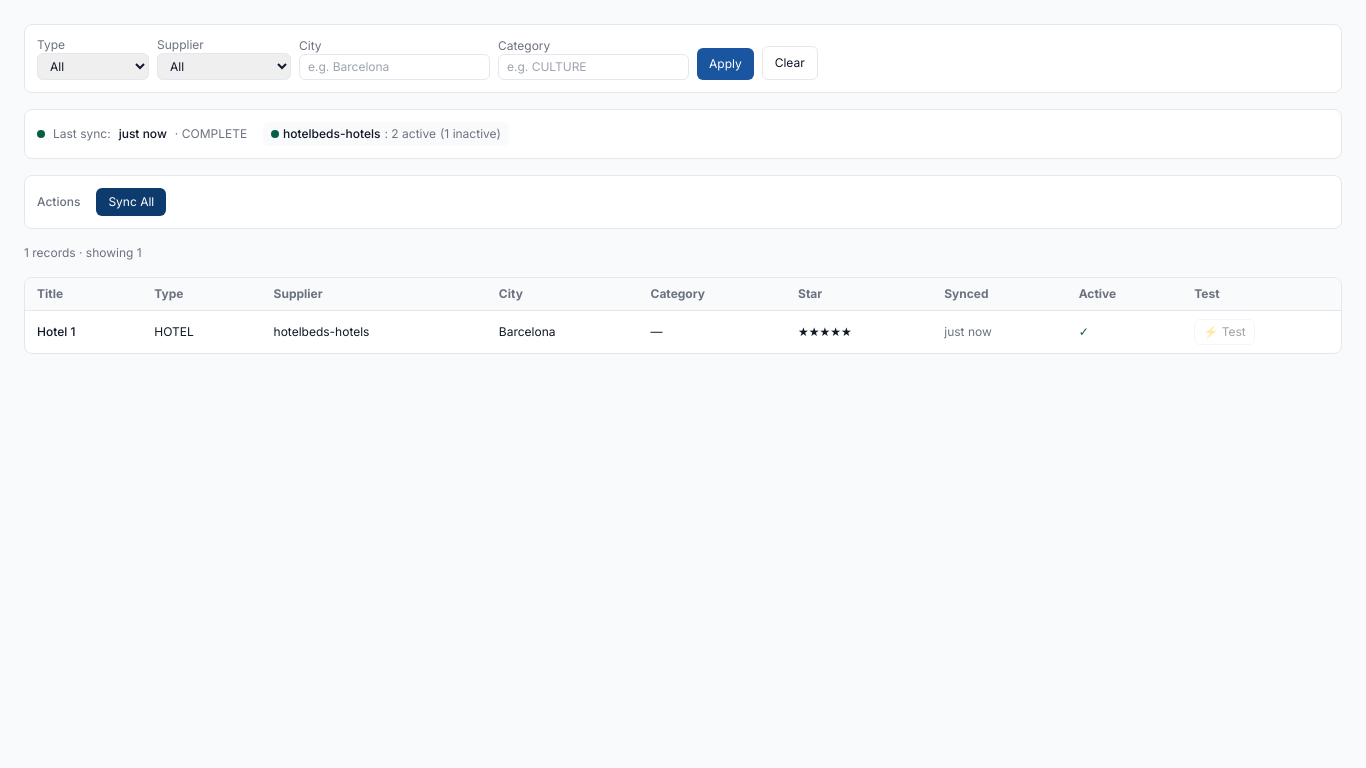
it: §7B Inventory page › row click expands raw JSON
The width and height of the screenshot is (1366, 768).
Click the text "Hotel 1" at (56, 332), box [25, 310, 142, 353]
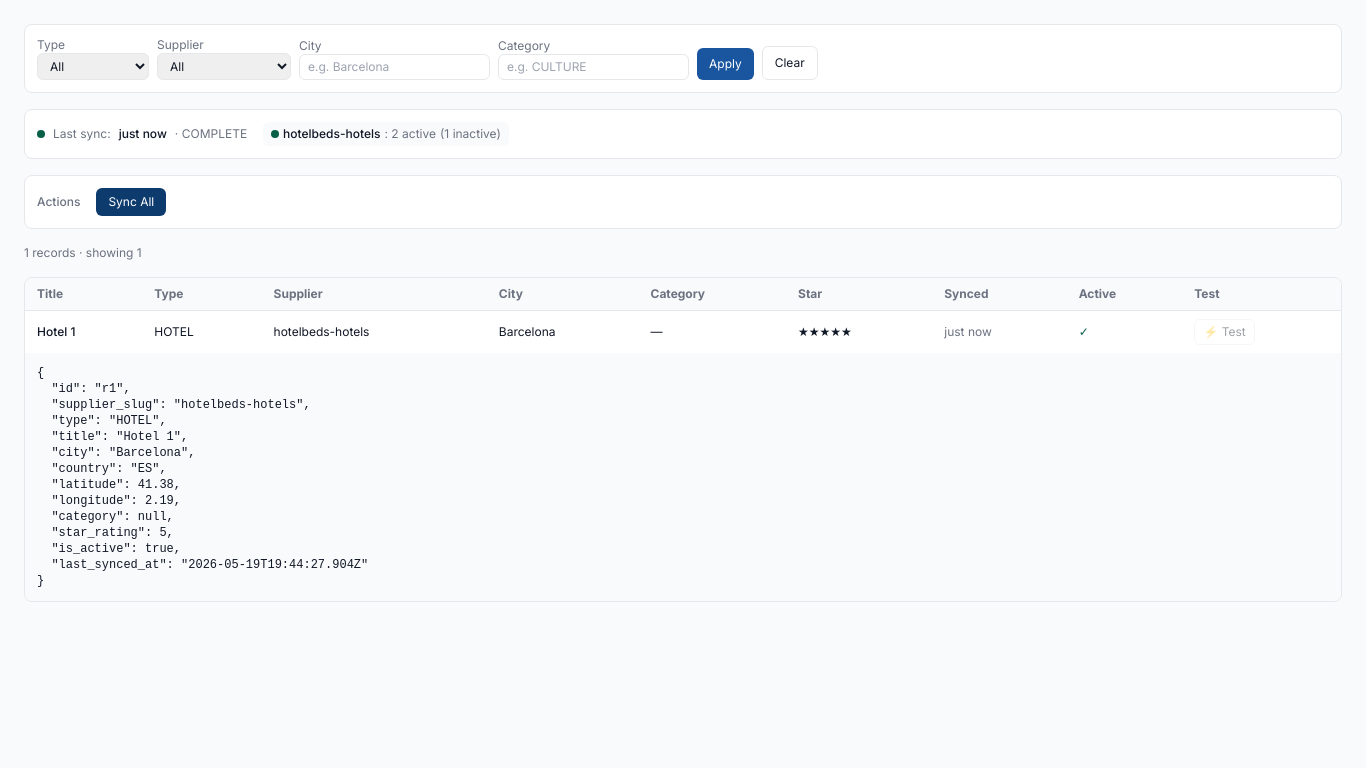
Expected: the text "\"id\": \"r1\"" is shown, [37, 366, 368, 588]
